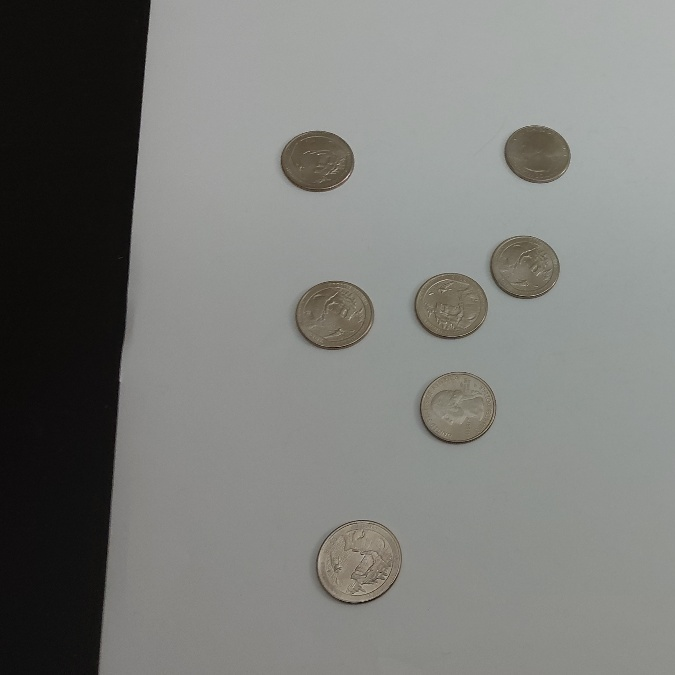coin_quarter: (311, 517, 405, 605), (278, 122, 358, 197), (486, 227, 566, 302), (408, 267, 488, 342), (296, 279, 376, 354), (417, 371, 497, 446), (501, 121, 572, 186)
